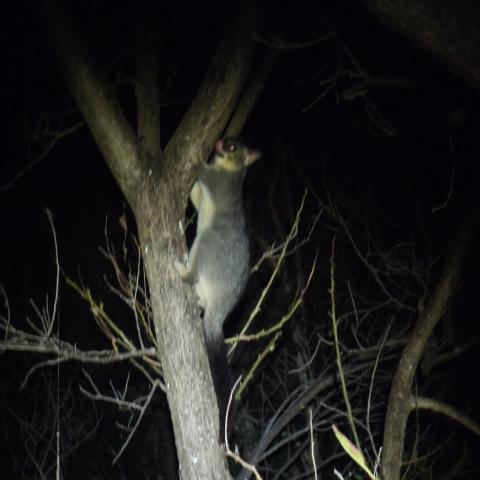small_animal: (173, 132, 263, 427)
